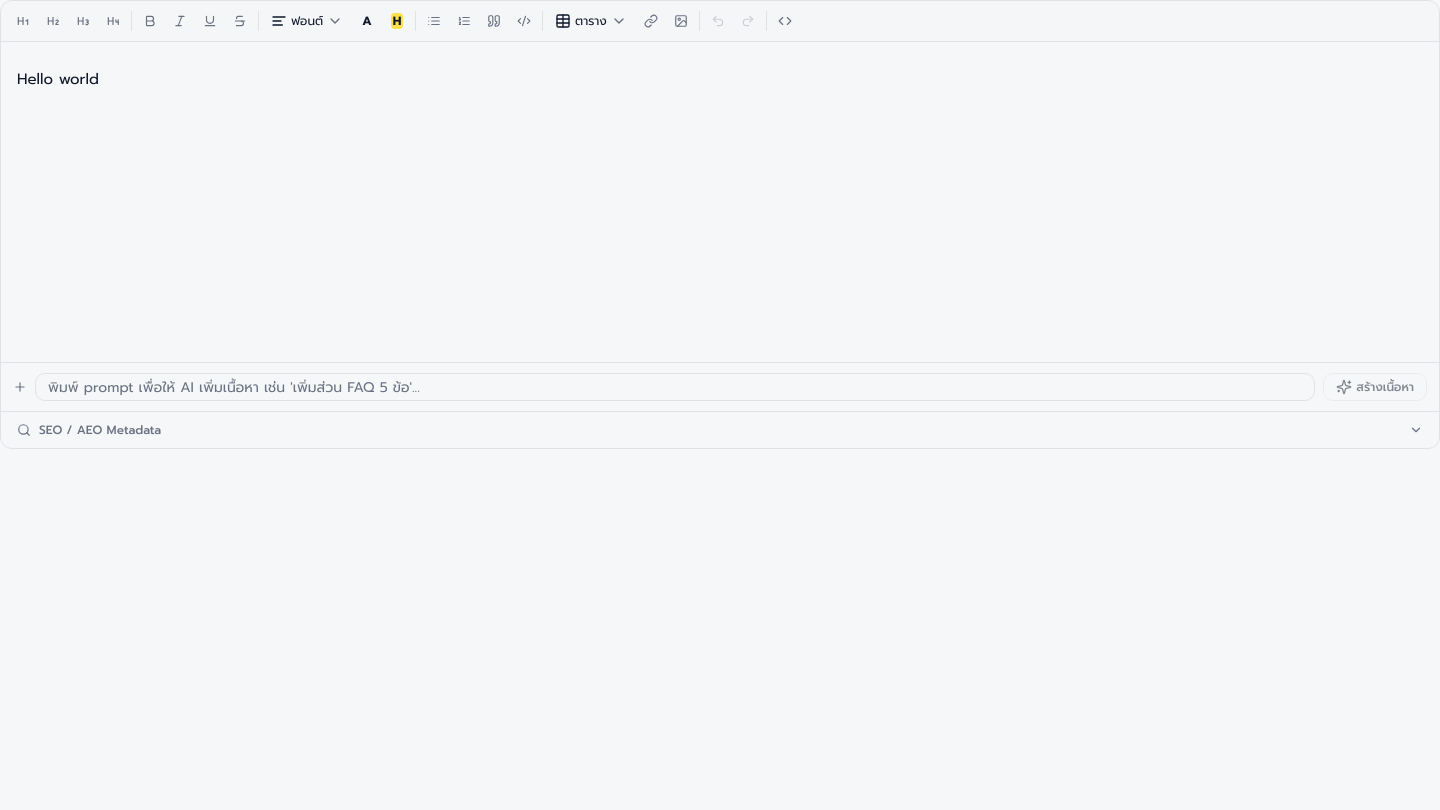
it: ArticleEditor › shows char counter warning when SEO title exceeds 60 chars
Check: the text "SEO / AEO Metadata" is shown, box [39, 421, 161, 439]
What coordinates should you click on to do the following:
click the button "SEO / AEO Metadata"
I would click on:
 (100, 430)
Its box is [1, 412, 1439, 448].
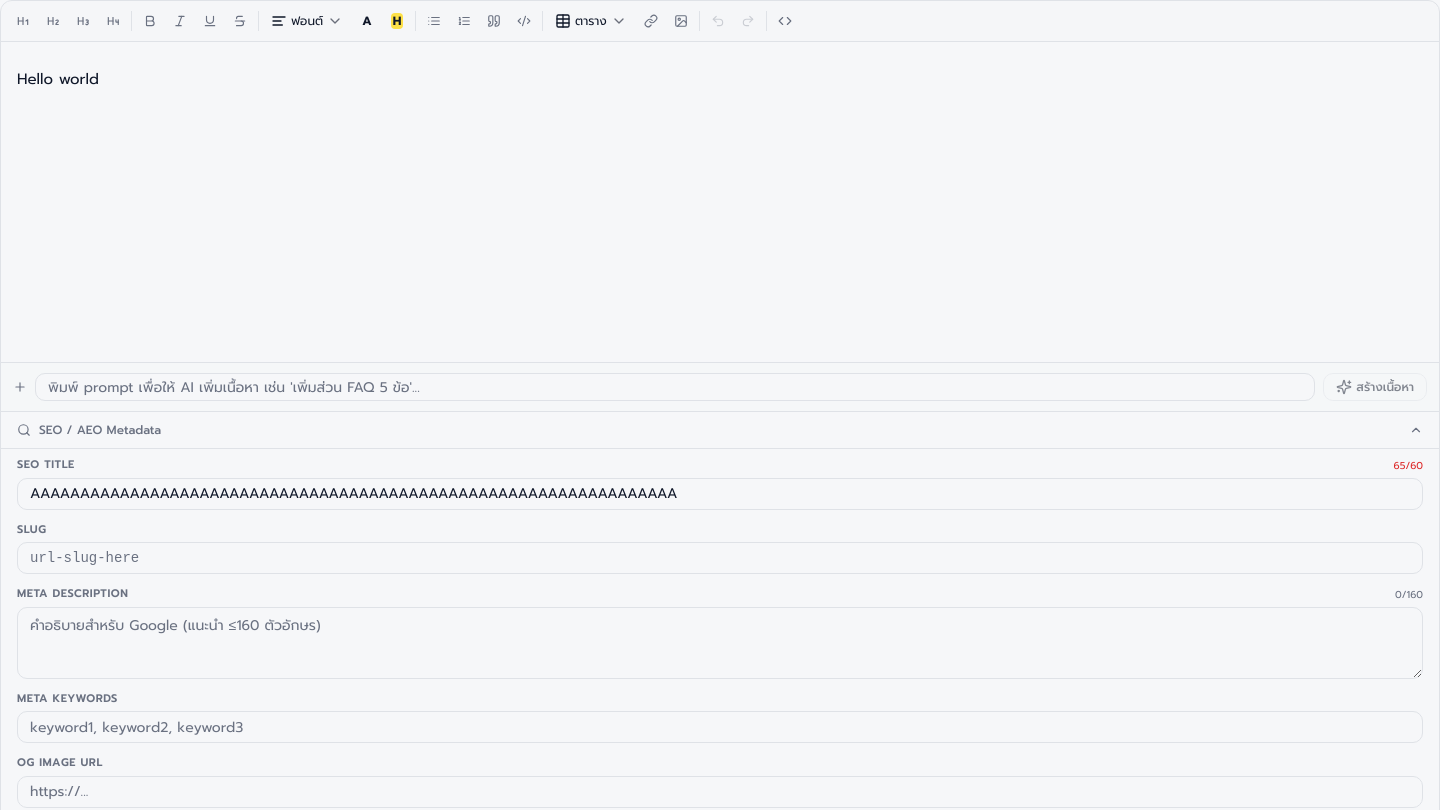
Check: the text "65/60" is shown, box [1394, 458, 1423, 473]
